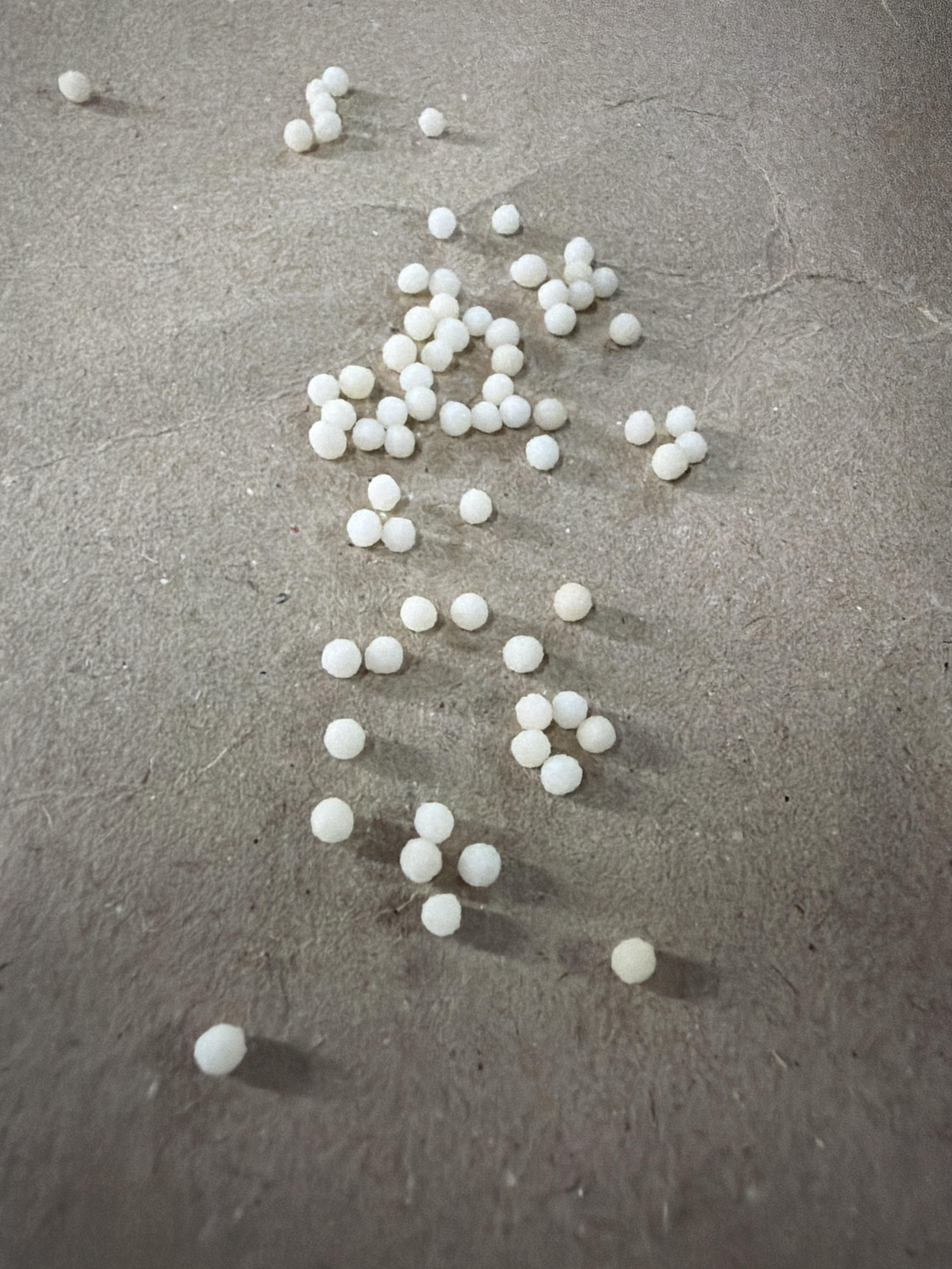pill: (193, 1023, 247, 1076), (611, 938, 656, 984), (310, 797, 354, 843), (400, 838, 443, 884), (457, 843, 501, 887), (323, 718, 366, 760), (540, 754, 583, 795), (421, 894, 462, 936), (414, 802, 455, 844), (321, 639, 362, 678), (511, 729, 551, 768), (553, 582, 592, 622), (450, 592, 489, 631), (576, 715, 616, 753), (503, 636, 544, 673), (364, 636, 403, 674), (651, 442, 688, 481), (309, 420, 346, 459), (552, 691, 588, 730), (515, 693, 552, 730), (346, 509, 382, 547), (509, 253, 548, 288), (382, 333, 416, 373), (400, 596, 437, 632), (337, 365, 375, 400), (434, 316, 470, 352), (459, 488, 493, 525), (367, 473, 400, 511), (525, 436, 560, 471), (382, 517, 416, 553), (403, 305, 437, 341), (351, 418, 385, 452), (321, 397, 355, 431), (533, 398, 568, 431), (439, 401, 471, 437), (485, 318, 521, 350), (543, 303, 577, 336), (420, 339, 453, 373), (307, 373, 340, 407), (58, 71, 92, 104), (624, 410, 656, 445), (499, 394, 531, 429), (609, 313, 642, 346), (675, 430, 707, 464), (405, 387, 437, 421), (283, 119, 315, 153), (307, 84, 337, 120), (384, 425, 415, 459), (482, 373, 514, 405), (461, 305, 493, 337), (397, 262, 429, 294), (491, 345, 524, 376), (400, 362, 433, 393), (471, 401, 502, 433), (490, 204, 521, 236), (427, 207, 457, 240), (312, 111, 342, 144), (666, 405, 696, 437), (538, 278, 568, 310), (428, 291, 458, 321), (590, 267, 619, 298), (429, 268, 460, 297), (321, 66, 350, 97), (567, 279, 595, 311), (418, 107, 446, 138), (564, 236, 594, 264), (563, 260, 593, 285), (305, 77, 330, 105)
